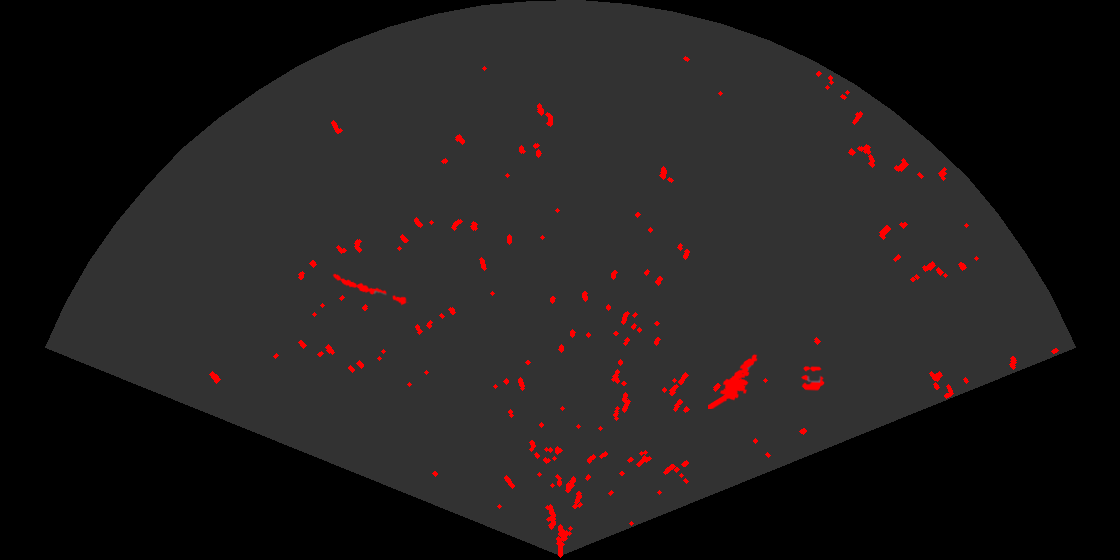ball: (799, 365, 826, 392)
chain: (331, 272, 409, 307)
frogman: (708, 353, 759, 409)
